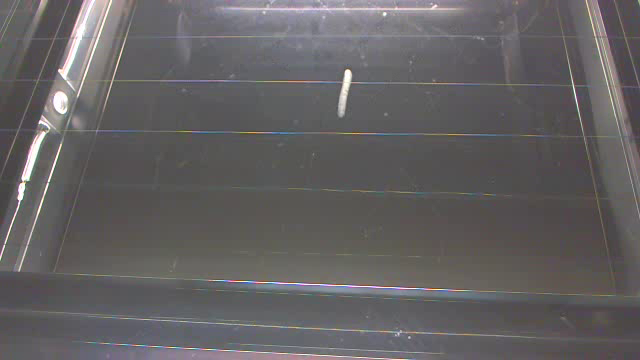alpha: (335, 65, 355, 124)
